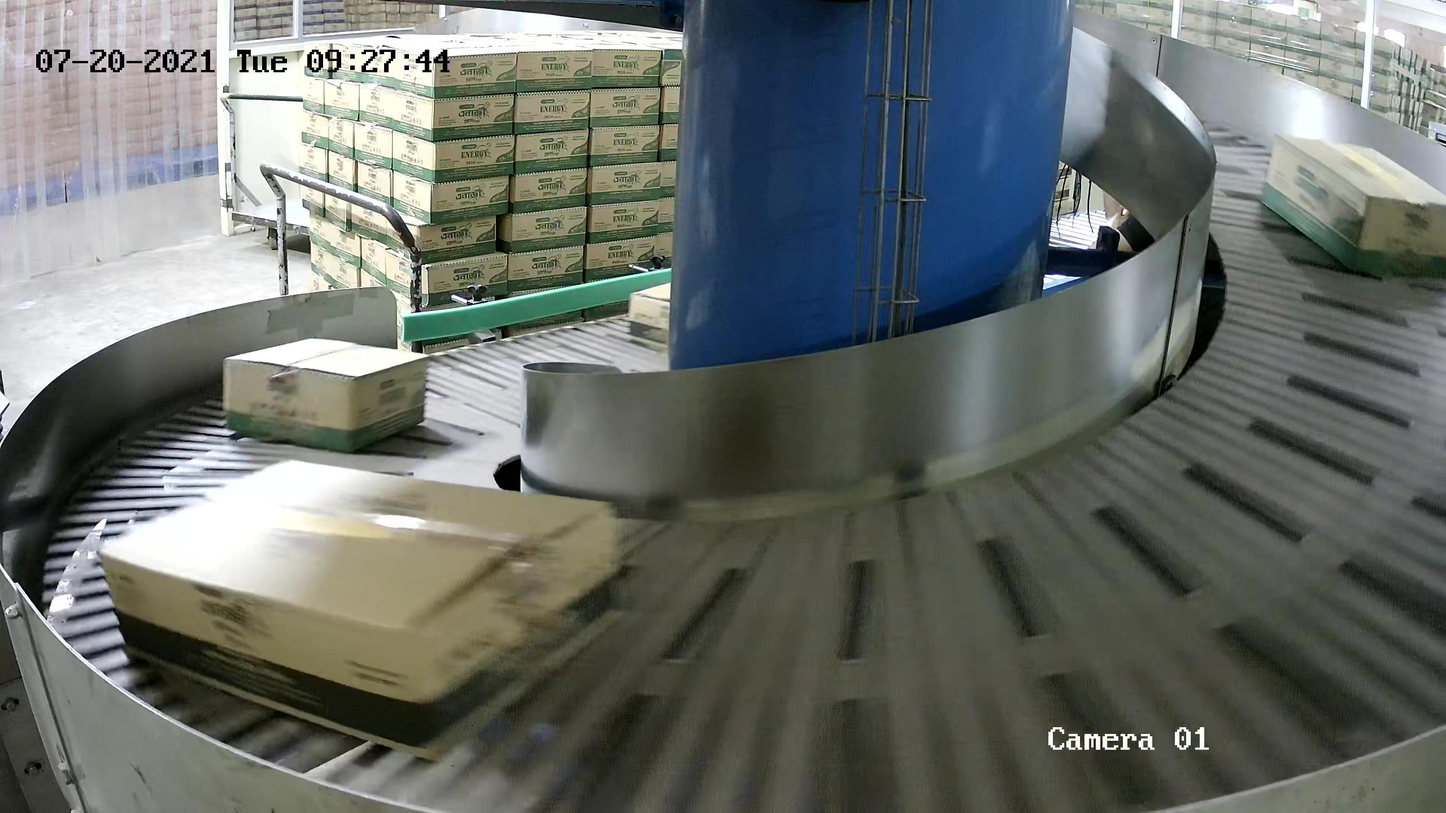Box: (95, 457, 625, 761), (1260, 132, 1446, 275), (222, 337, 430, 452), (627, 281, 671, 349)
